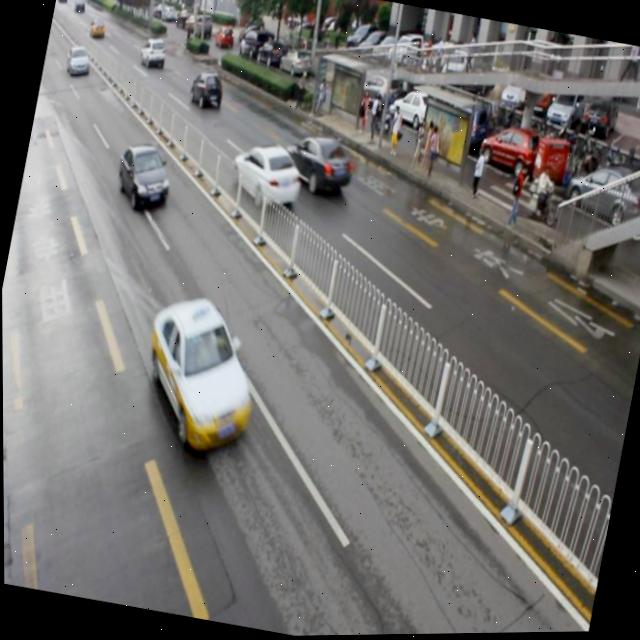car: (130, 289, 270, 462), (225, 137, 306, 216), (276, 128, 359, 203), (111, 137, 177, 214), (187, 67, 227, 115)
